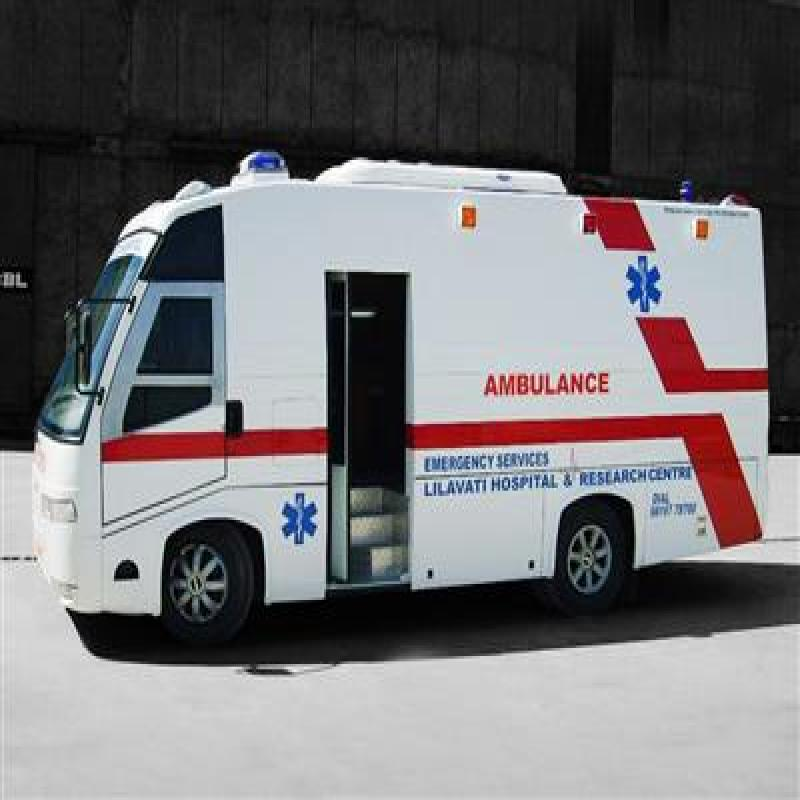ambulance: (18, 139, 776, 644)
